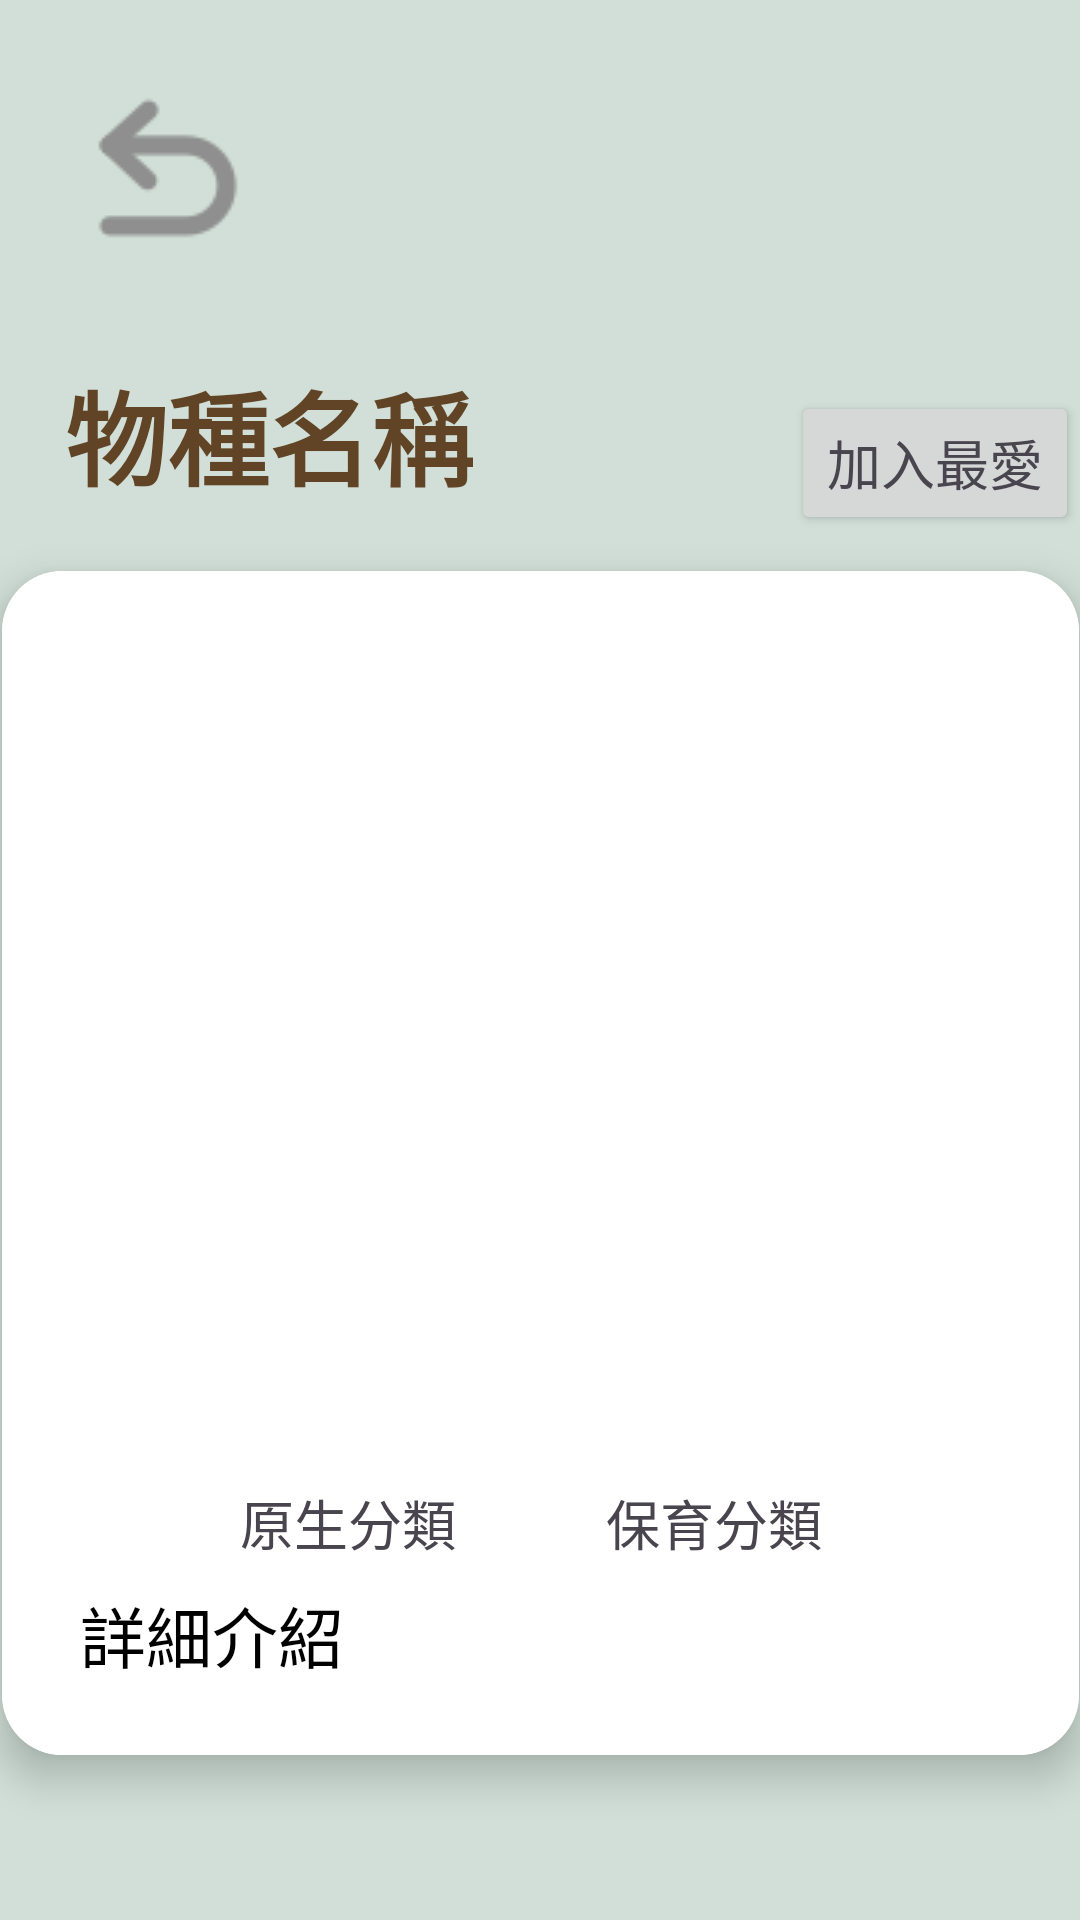

Point at icon controls on the screen. Image size 1080 x 1920, points as [x,y].
back arrow: [168,168]
